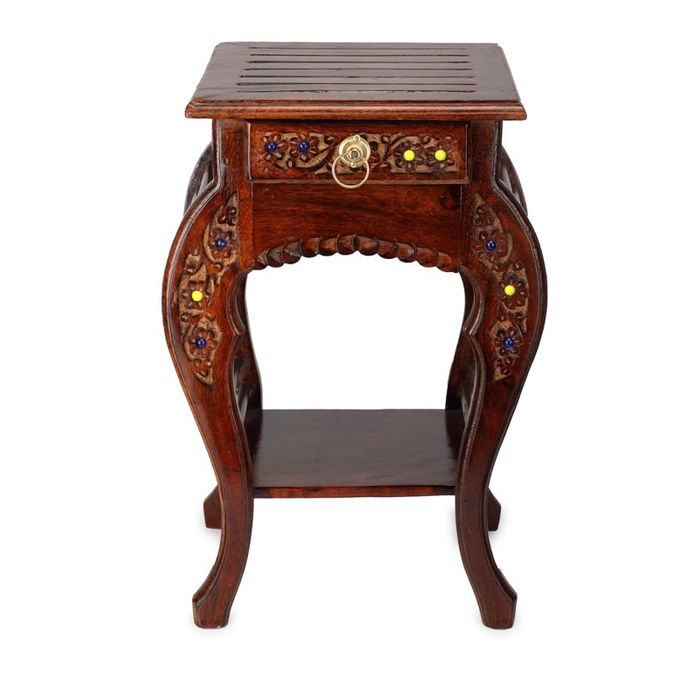Carving Table: (142, 34, 553, 661)
